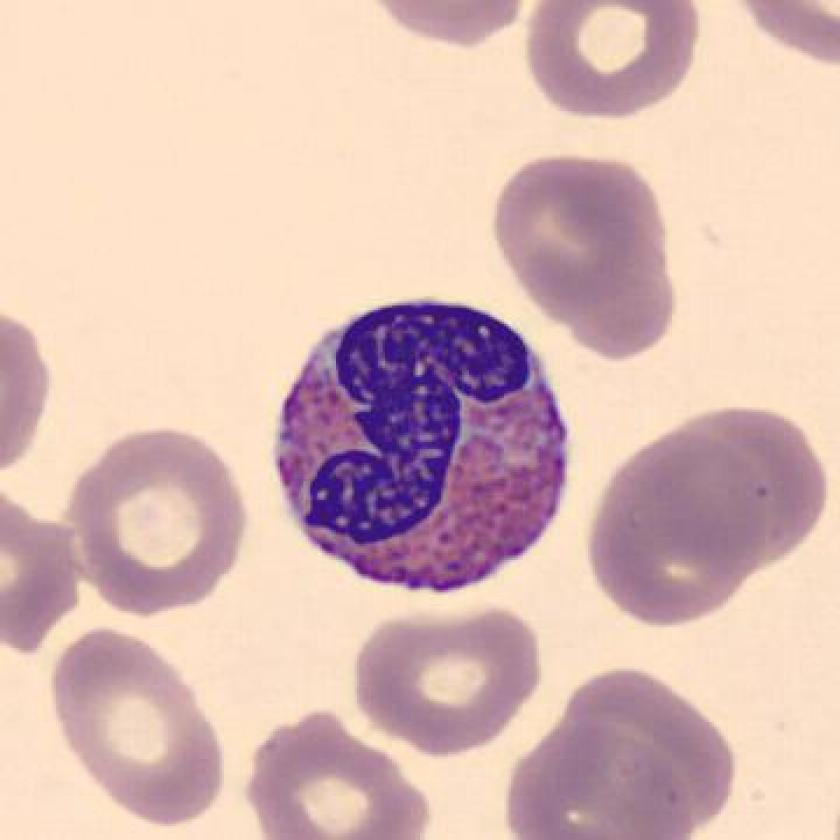eosinophil: (260, 290, 589, 605)
